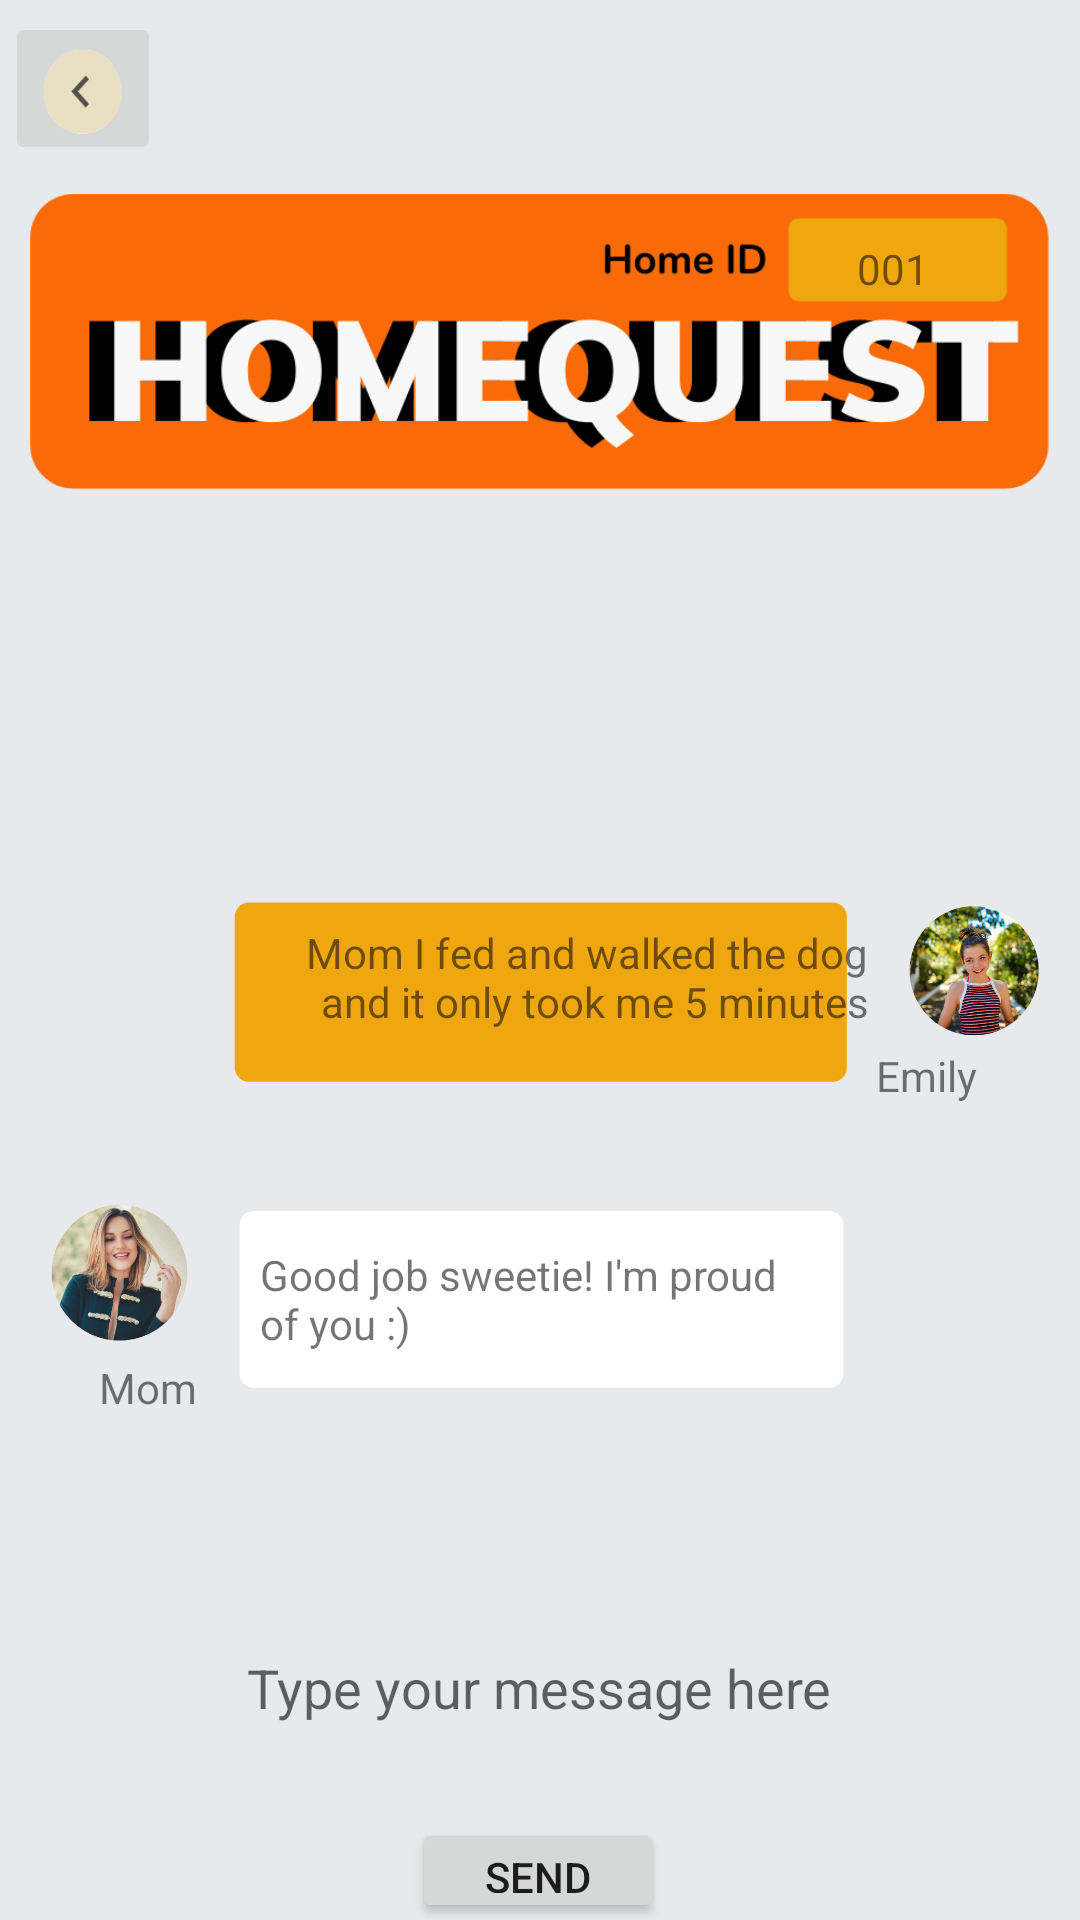

Named icons in this screenshot (1080*1920) and their centers, point (x, y):
back: point (82, 91)
